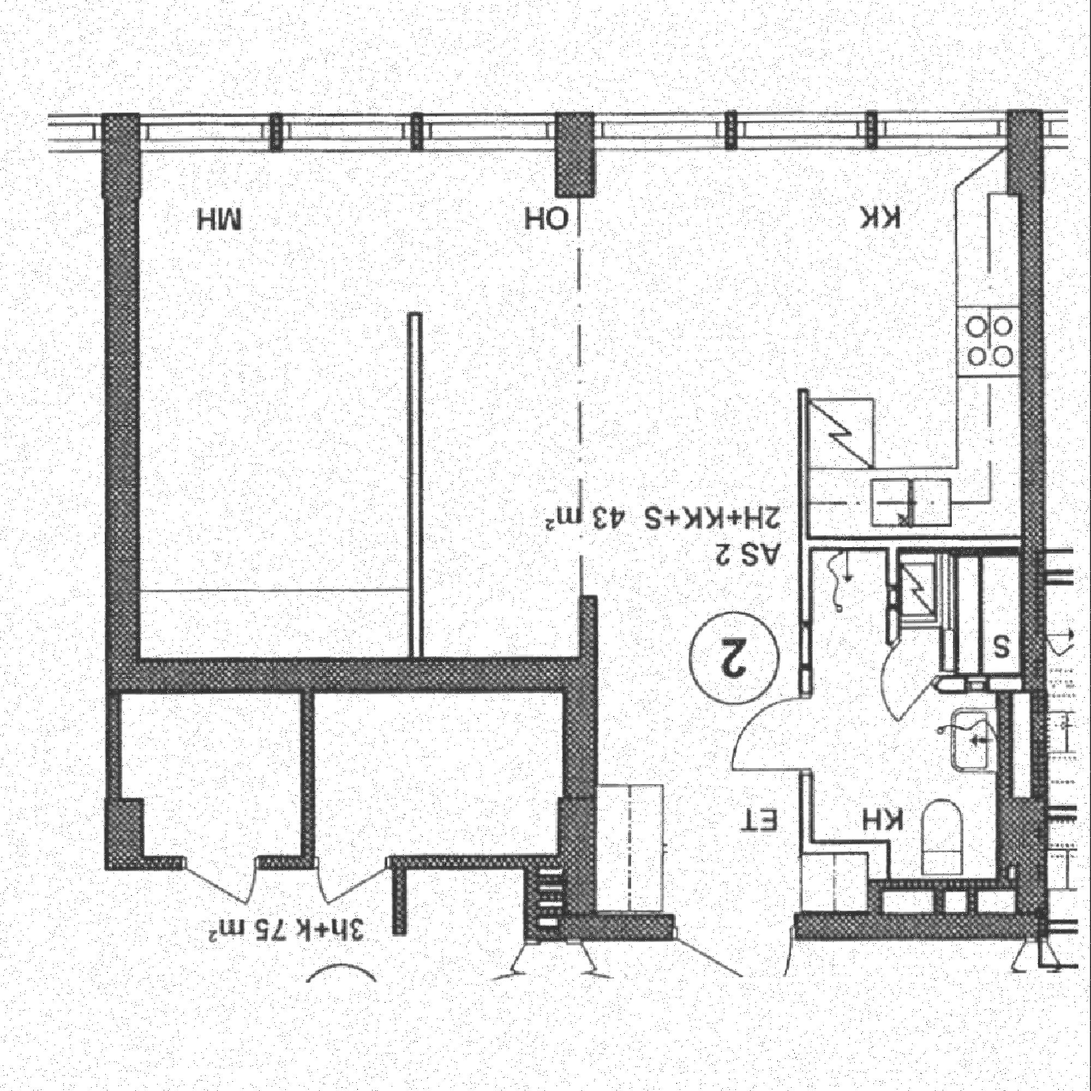wall: (104, 113, 1045, 151), (104, 113, 139, 692), (1021, 113, 1045, 939), (104, 655, 598, 692), (565, 911, 1045, 939), (564, 655, 597, 939), (408, 313, 422, 692), (799, 536, 812, 854), (799, 536, 1045, 549), (888, 636, 942, 690), (866, 841, 889, 939), (941, 673, 1045, 690), (799, 389, 809, 536), (888, 536, 900, 641), (800, 841, 889, 854), (579, 595, 597, 655)
